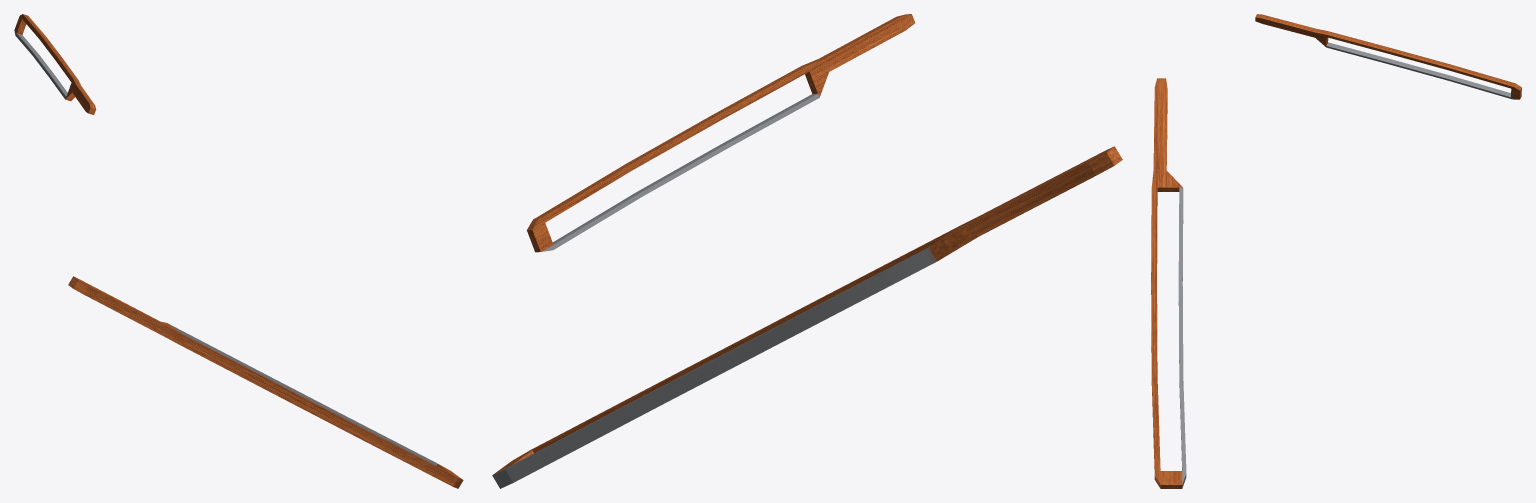
The model's file is Chello Bow.fbx.
3 views of the same model, side by side, from view 1: azimuth 30°, elevation 25°; view 2: azimuth 150°, elevation 25°; view 3: azimuth 270°, elevation 25° (orthographic). The views are drawn at different scales.
Visible parts, largest first — view 1: pCube4476 (×2); view 2: pCube4476 (×2); view 3: pCube4476 (×2).
Part boxes in pixels (bbox=[...]): pCube4476 (×2): bbox=[14, 14, 463, 488]; pCube4476 (×2): bbox=[492, 14, 1122, 488]; pCube4476 (×2): bbox=[1151, 14, 1521, 488].
Size of the model in its own units: 0.8005 by 0.8103 by 0.7815.
1 material, 1 textured.
